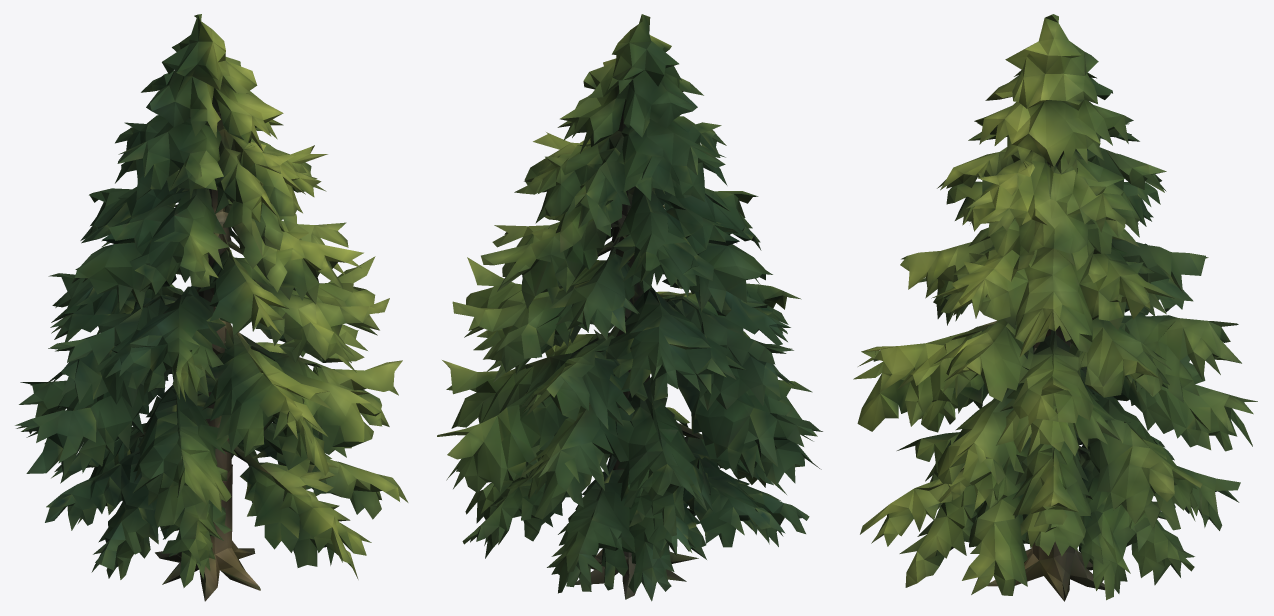
Rendered from conifer-high.glb.
3 renders of one model, left to right at view 1: azimuth 30°, elevation 25°; view 2: azimuth 150°, elevation 25°; view 3: azimuth 270°, elevation 25°, orthographic.
Parts seen in each view (by area): view 1: tripo_node_4ce3b521-10ee-4f57-a60e-c4ad969f557a; view 2: tripo_node_4ce3b521-10ee-4f57-a60e-c4ad969f557a; view 3: tripo_node_4ce3b521-10ee-4f57-a60e-c4ad969f557a.
Boxes of the visible parts, x1,y1,x2,y2 form: tripo_node_4ce3b521-10ee-4f57-a60e-c4ad969f557a: (15,14,408,601); tripo_node_4ce3b521-10ee-4f57-a60e-c4ad969f557a: (437,14,822,601); tripo_node_4ce3b521-10ee-4f57-a60e-c4ad969f557a: (853,14,1257,601).
Size of the model in its own units: 0.6981 by 0.9706 by 0.6419.
1 material, 1 textured.
